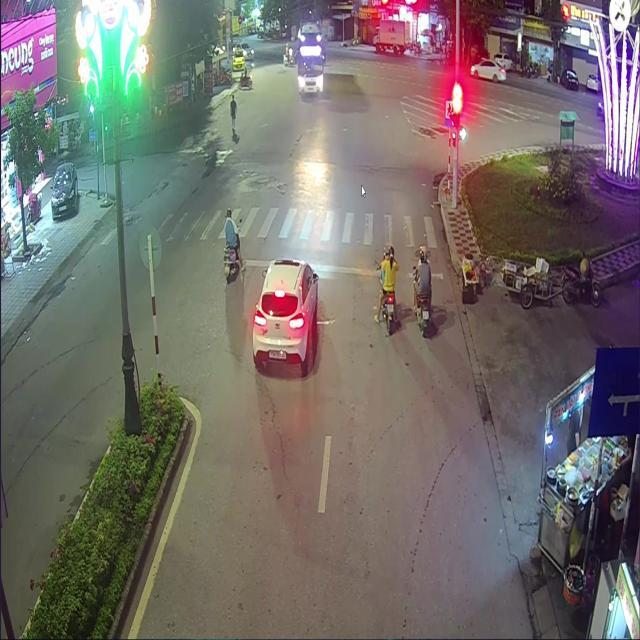car: (251, 257, 318, 374)
motobike: (378, 287, 393, 333), (223, 246, 244, 276), (416, 292, 429, 335)
red_light: (452, 97, 459, 127)
stop_line: (231, 258, 442, 280)
